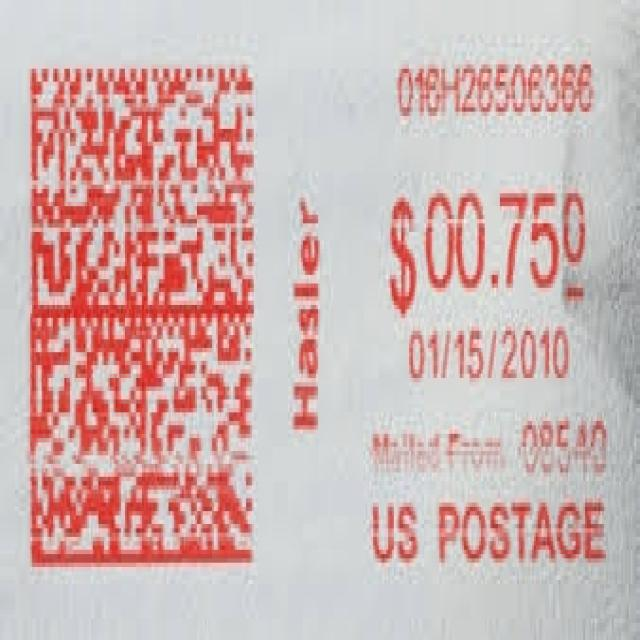datamatrix: (19, 43, 263, 597)
